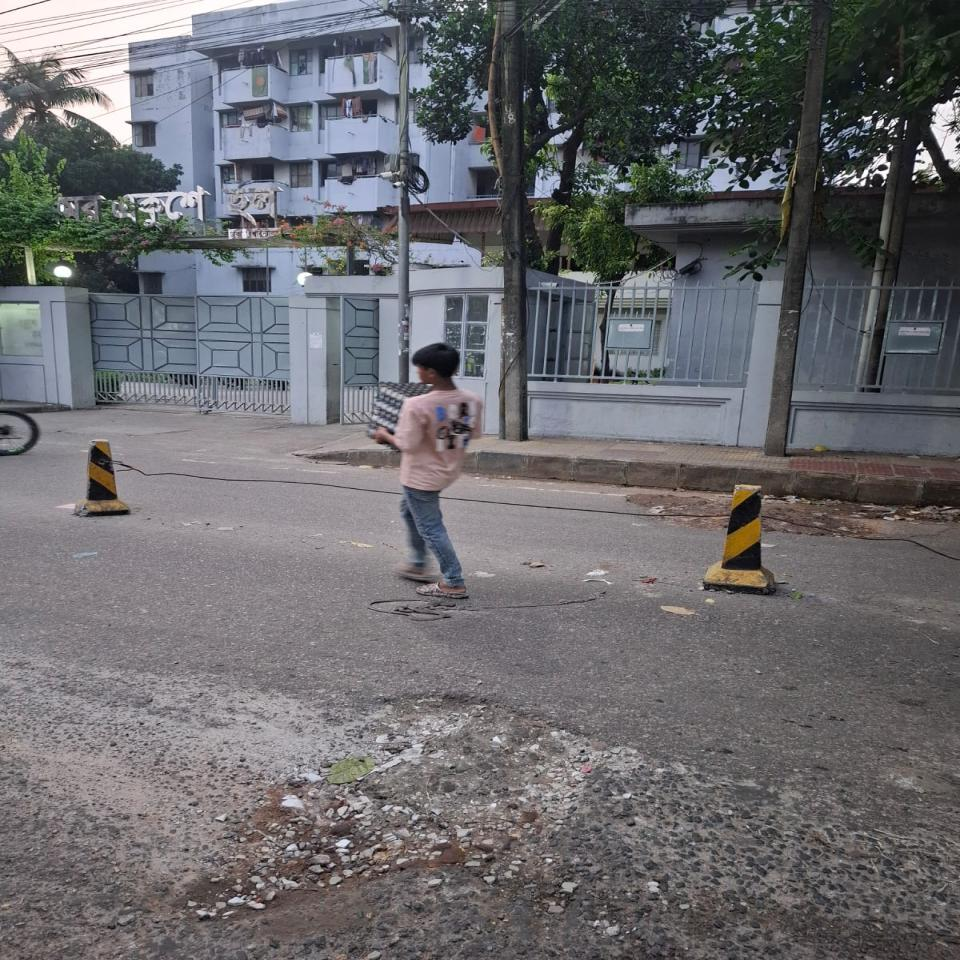person: (373, 342, 483, 600)
